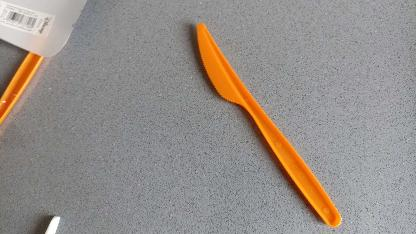Others: (194, 21, 344, 229)
